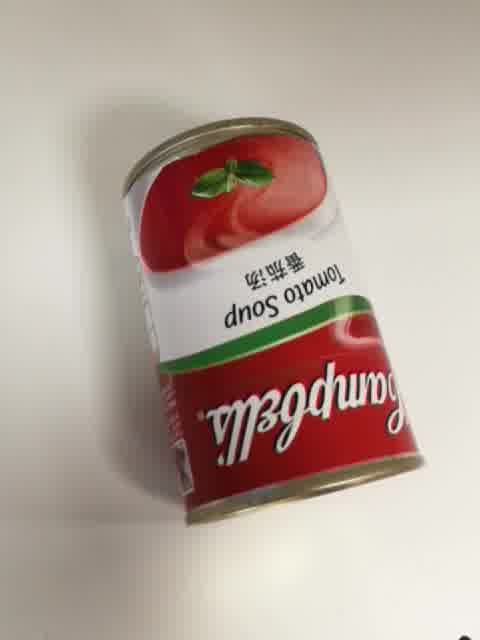tomatosoup: (119, 113, 429, 530)
